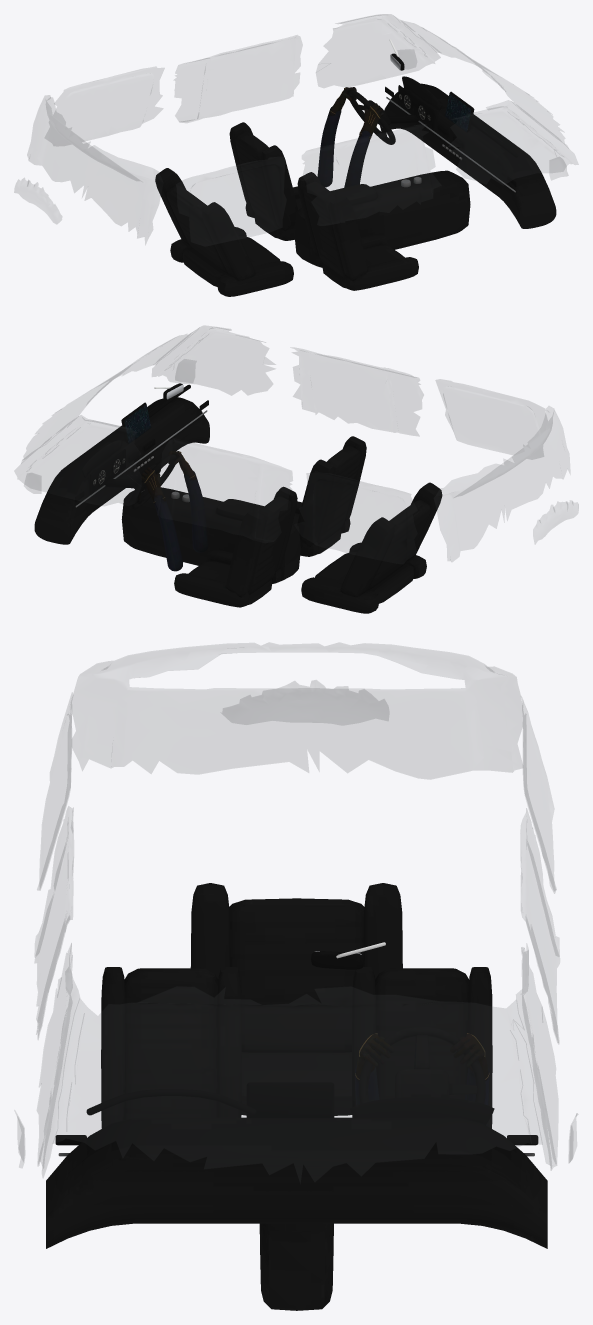
The model's file is rb_ridgeback_cockpit_mid.glb.
3 renders of one model, top to bottom at view 1: azimuth 30°, elevation 25°; view 2: azimuth 150°, elevation 25°; view 3: azimuth 270°, elevation 25°, orthographic. The views are drawn at different scales.
Parts seen in each view (by area): view 1: cabin_glass, cockpit_shell, window_R, window_L, hands, steering_wheel; view 2: cabin_glass, cockpit_shell, window_L, window_R, hands, steering_wheel; view 3: cabin_glass, cockpit_shell, window_L, window_R, steering_wheel, hands.
Part boxes in pixels (box(x1,y1,x2,y2)): cabin_glass: box(14, 15, 567, 245); cockpit_shell: box(155, 39, 556, 296); window_R: box(450, 100, 578, 184); window_L: box(316, 14, 440, 87); hands: box(317, 87, 383, 187); steering_wheel: box(348, 90, 395, 144); cabin_glass: box(22, 328, 578, 563); cockpit_shell: box(34, 383, 442, 613); window_L: box(15, 415, 140, 505); window_R: box(152, 326, 274, 395); hands: box(140, 451, 208, 571); steering_wheel: box(128, 454, 176, 509); cabin_glass: box(35, 643, 577, 1181); cockpit_shell: box(46, 883, 547, 1310); window_L: box(511, 946, 576, 1170); window_R: box(15, 946, 83, 1177); steering_wheel: box(358, 1026, 485, 1103); hands: box(355, 1033, 489, 1125).
Size of the model in its own units: 3.38 by 1.2 by 1.8.
Materials: 4 (2 with a texture image).
